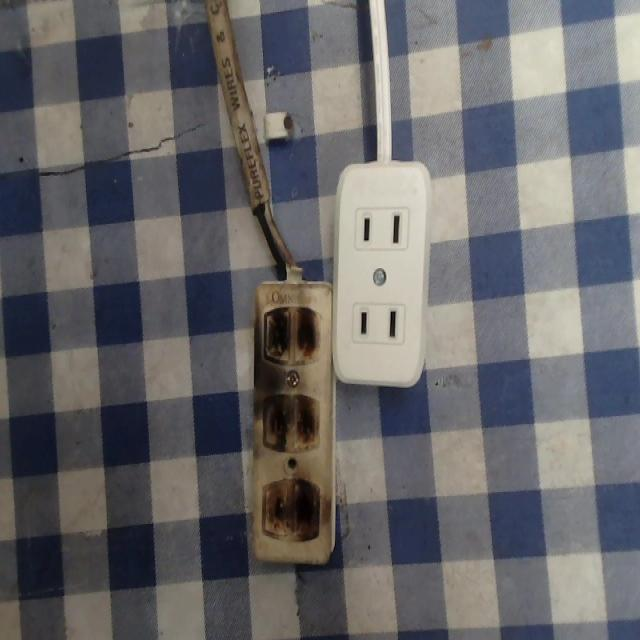-: (262, 300, 328, 367), (260, 388, 322, 456), (261, 471, 314, 544)
